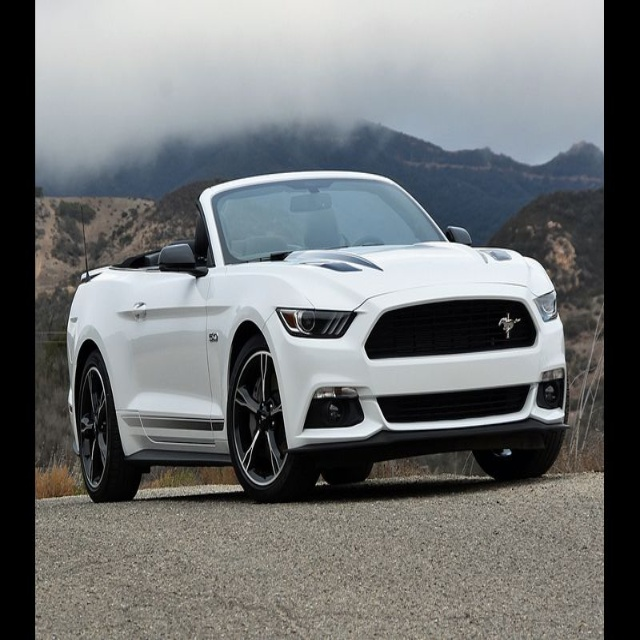Car: (66, 168, 570, 503)
